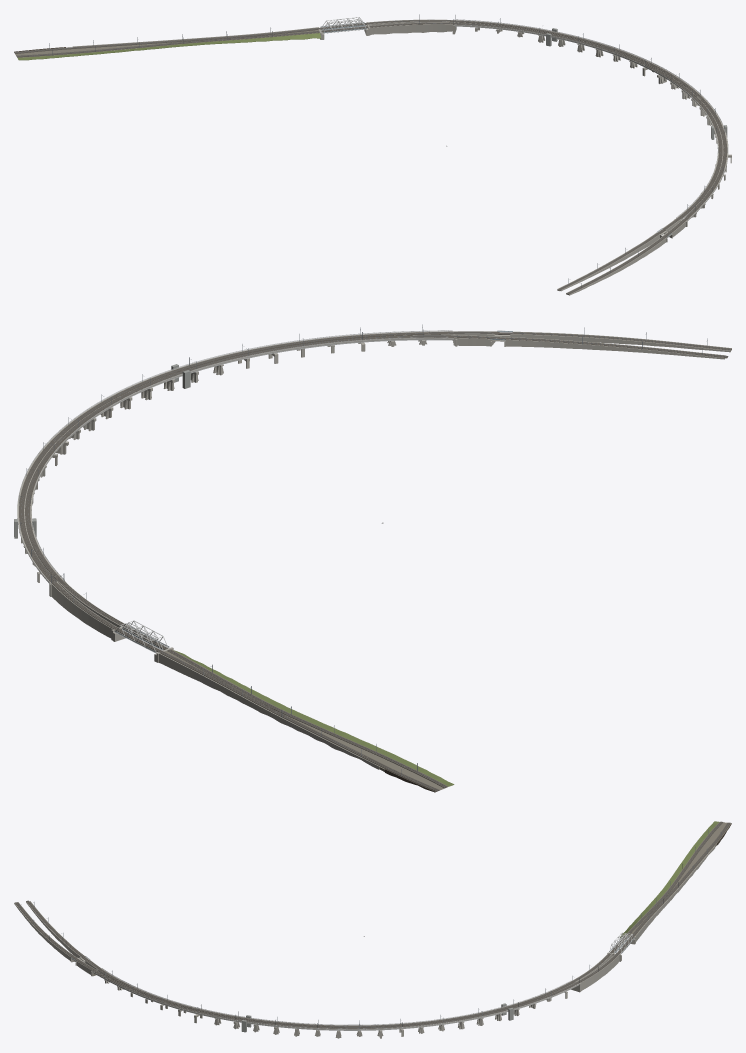
3 views of the same model, one above another, from view 1: azimuth 30°, elevation 25°; view 2: azimuth 150°, elevation 25°; view 3: azimuth 270°, elevation 25° (orthographic). The views are drawn at different scales.
Visible parts, largest first — view 1: Building; view 2: Building; view 3: Building.
Boxes of the visible parts, <box> form: Building: <box>14,14,731,295</box>; Building: <box>14,324,731,792</box>; Building: <box>14,821,731,1038</box>.
Size of what is drawn, in the model's own units: 725 by 28.05 by 1027.
